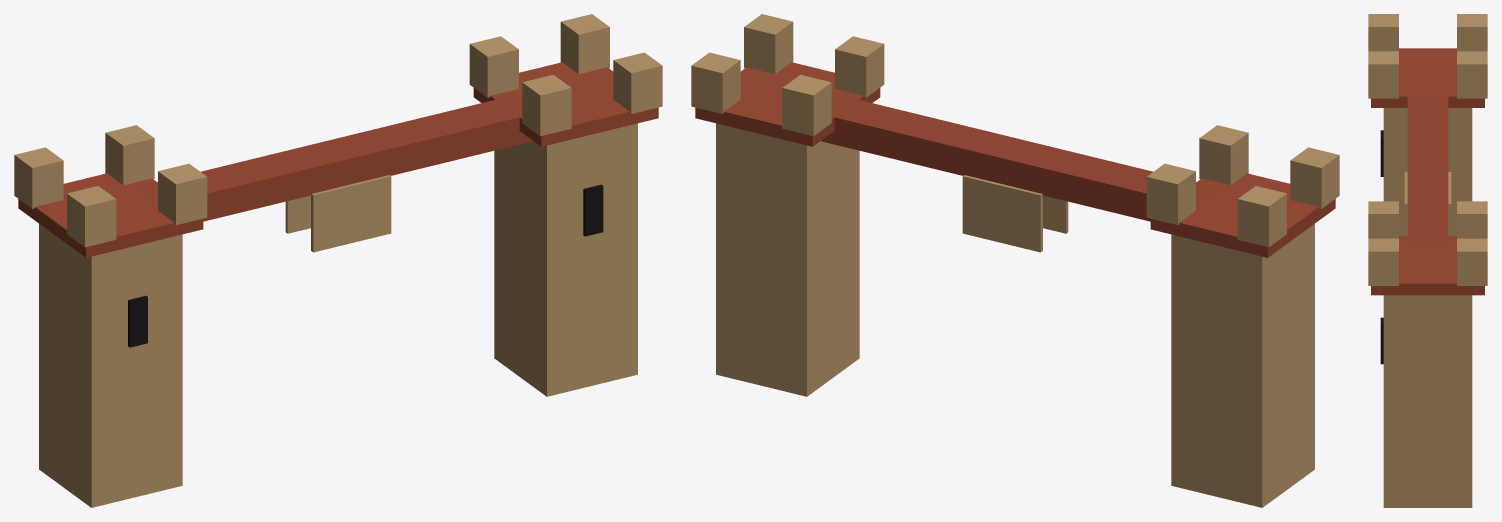
Rendered from cat_gate_broken.glb.
The picture shows the model from 3 angles, left to right: view 1: azimuth 30°, elevation 25°; view 2: azimuth 150°, elevation 25°; view 3: azimuth 270°, elevation 25°; orthographic projection. The views are drawn at different scales.
Visible parts, largest first — view 1: cat_gate_piece1, cat_gate_piece0, cat_gate_piece4, cat_gate_piece2, cat_gate_piece10, cat_gate_piece3, cat_gate_piece7, cat_gate_piece11, cat_gate_piece9, cat_gate_piece5, cat_gate_piece13, cat_gate_piece6 (+1 smaller); view 2: cat_gate_piece2, cat_gate_piece5, cat_gate_piece7, cat_gate_piece1, cat_gate_piece4, cat_gate_piece6, cat_gate_piece13, cat_gate_piece10, cat_gate_piece12, cat_gate_piece0, cat_gate_piece3, cat_gate_piece9 (+1 smaller); view 3: cat_gate_piece1, cat_gate_piece4, cat_gate_piece7, cat_gate_piece13, cat_gate_piece5, cat_gate_piece10, cat_gate_piece0, cat_gate_piece2, cat_gate_piece9, cat_gate_piece6.
Part boxes in pixels (x1,y1,x2,y2): cat_gate_piece1: [500, 52, 662, 378]; cat_gate_piece0: [65, 205, 182, 507]; cat_gate_piece4: [67, 143, 317, 300]; cat_gate_piece2: [14, 147, 105, 503]; cat_gate_piece10: [316, 119, 444, 251]; cat_gate_piece3: [435, 134, 621, 396]; cat_gate_piece7: [414, 14, 609, 236]; cat_gate_piece11: [99, 364, 182, 505]; cat_gate_piece9: [418, 94, 520, 263]; cat_gate_piece5: [469, 77, 535, 388]; cat_gate_piece13: [96, 125, 157, 206]; cat_gate_piece6: [118, 135, 310, 233]; cat_gate_piece2: [1177, 186, 1315, 507]; cat_gate_piece5: [716, 128, 848, 378]; cat_gate_piece7: [691, 52, 916, 250]; cat_gate_piece1: [740, 14, 884, 263]; cat_gate_piece4: [1012, 125, 1339, 233]; cat_gate_piece6: [962, 163, 1238, 250]; cat_gate_piece13: [1117, 167, 1237, 431]; cat_gate_piece10: [900, 118, 1061, 232]; cat_gate_piece12: [716, 327, 830, 396]; cat_gate_piece0: [1177, 191, 1328, 472]; cat_gate_piece3: [828, 117, 933, 366]; cat_gate_piece9: [821, 104, 929, 270]; cat_gate_piece1: [1368, 201, 1452, 507]; cat_gate_piece4: [1368, 14, 1448, 173]; cat_gate_piece7: [1444, 201, 1487, 431]; cat_gate_piece13: [1421, 51, 1487, 233]; cat_gate_piece5: [1419, 365, 1472, 507]; cat_gate_piece10: [1404, 152, 1451, 235]; cat_gate_piece0: [1380, 48, 1456, 235]; cat_gate_piece2: [1406, 14, 1487, 70]; cat_gate_piece9: [1407, 202, 1448, 244]; cat_gate_piece6: [1415, 57, 1464, 235].
Size of the model in its own units: 4.44 by 2.29 by 0.94.
